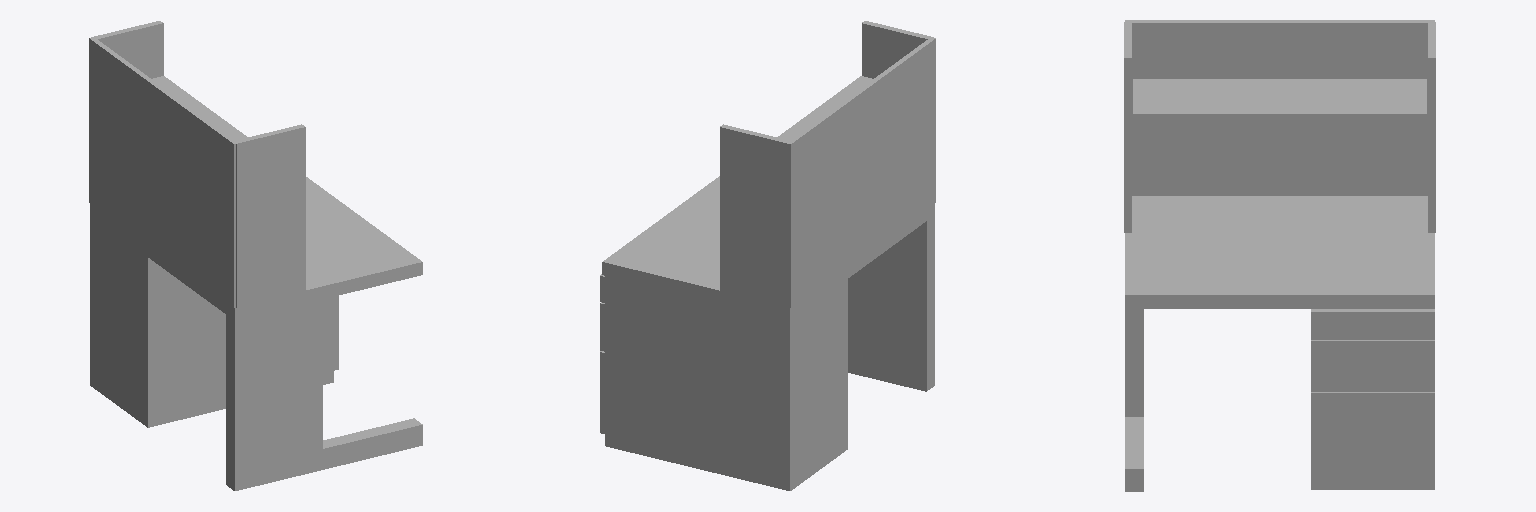
robot.urdf — uchida-1000-desk:
<?xml version="1.0"?>
<robot name="uchida-1000-desk"
       xmlns:xi="http://www.w3.org/2001/XInclude"
       xmlns:gazebo="http://playerstage.sourceforge.net/gazebo/xmlschema/#gz"
       xmlns:model="http://playerstage.sourceforge.net/gazebo/xmlschema/#model"
       xmlns:sensor="http://playerstage.sourceforge.net/gazebo/xmlschema/#sensor"
       xmlns:body="http://playerstage.sourceforge.net/gazebo/xmlschema/#body"
       xmlns:geom="http://playerstage.sourceforge.net/gazebo/xmlschema/#geom"
       xmlns:joint="http://playerstage.sourceforge.net/gazebo/xmlschema/#joint"
       xmlns:interface="http://playerstage.sourceforge.net/gazebo/xmlschema/#interface"
       xmlns:rendering="http://playerstage.sourceforge.net/gazebo/xmlschema/#rendering"
       xmlns:renderable="http://playerstage.sourceforge.net/gazebo/xmlschema/#renderable"
       xmlns:controller="http://playerstage.sourceforge.net/gazebo/xmlschema/#controller"
       xmlns:physics="http://playerstage.sourceforge.net/gazebo/xmlschema/#physics">
  <gazebo>
    <static>false</static>
  </gazebo>
  <link name="nil_link">
    <visual>
      <origin xyz="0 0 0" rpy="0 -0 0"/>
      <geometry>
        <mesh filename="model://uchida-1000-desk/meshes/nil_link_mesh.dae" scale="1 1 1" />
      </geometry>
    </visual>
    <collision>
      <origin xyz="0 0 0" rpy="0 -0 0"/>
      <geometry>
        <mesh filename="model://uchida-1000-desk/meshes/nil_link_mesh.dae" scale="1 1 1" />
      </geometry>
    </collision>
    <inertial>
      <mass value="0.001" />
      <origin xyz="0 0 0" rpy="0 -0 0"/>
      <inertia ixx="1e-09" ixy="0" ixz="0" iyy="1e-09" iyz="0" izz="1e-09"/>
    </inertial>
  </link>
  <gazebo reference="nil_link">
    <mu1>0.9</mu1>
    <mu2>0.9</mu2>
  </gazebo>
</robot>

--- Render facts (derived) ---
3 views of the same robot in one strip: view 1: azimuth 30°, elevation 25°; view 2: azimuth 150°, elevation 25°; view 3: azimuth 270°, elevation 25° (orthographic).
Robot: uchida-1000-desk — 1 links, 0 joints (none); root link nil_link; default pose: all joints at 0.
Visible links, largest first — view 1: nil_link; view 2: nil_link; view 3: nil_link.
Boxes of the visible links, x1,y1,x2,y2 form: nil_link: (89,21,422,490); nil_link: (600,21,935,490); nil_link: (1124,20,1435,491).
Bounding box of the posed robot: 0.764 × 1 × 1.32 m (x, y, z).
Meshes: 1 distinct files referenced, 1 mesh visuals loaded (1 Collada DAE).
